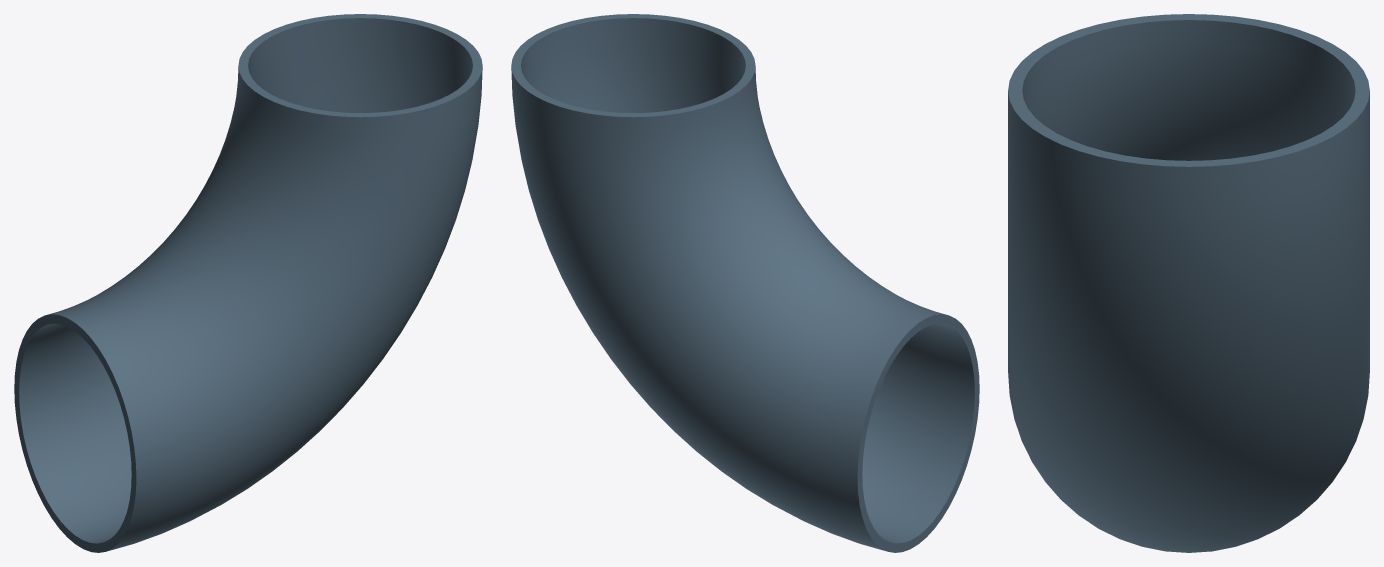
Rendered from otvod-90-89x3_5-R120.glb.
The picture shows the model from 3 angles, left to right: view 1: azimuth 30°, elevation 25°; view 2: azimuth 150°, elevation 25°; view 3: azimuth 270°, elevation 25°; orthographic projection. The views are drawn at different scales.
Visible parts, largest first — view 1: Open CASCADE STEP translator 7.9 26; view 2: Open CASCADE STEP translator 7.9 26; view 3: Open CASCADE STEP translator 7.9 26.
Part boxes in pixels (box(x1,y1,x2,y2)): Open CASCADE STEP translator 7.9 26: box(14, 14, 482, 552); Open CASCADE STEP translator 7.9 26: box(511, 14, 979, 552); Open CASCADE STEP translator 7.9 26: box(1008, 14, 1369, 552).
Bounding box in the file's own units: 164 × 164 × 89.
